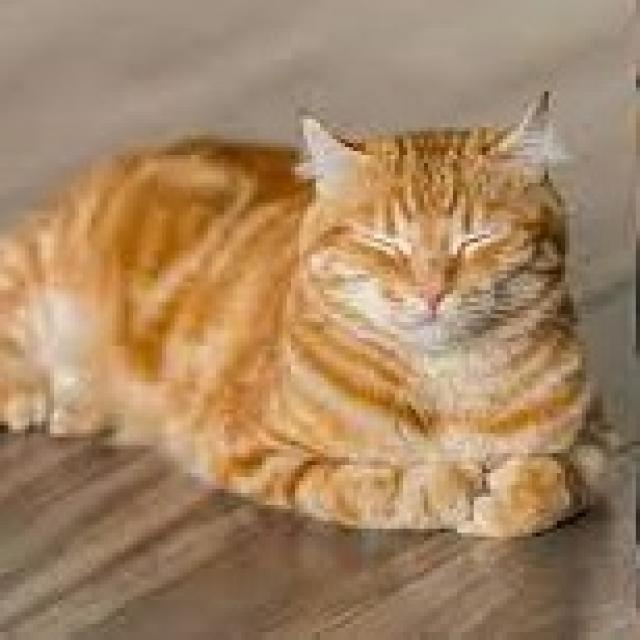cat: (0, 93, 623, 546)
